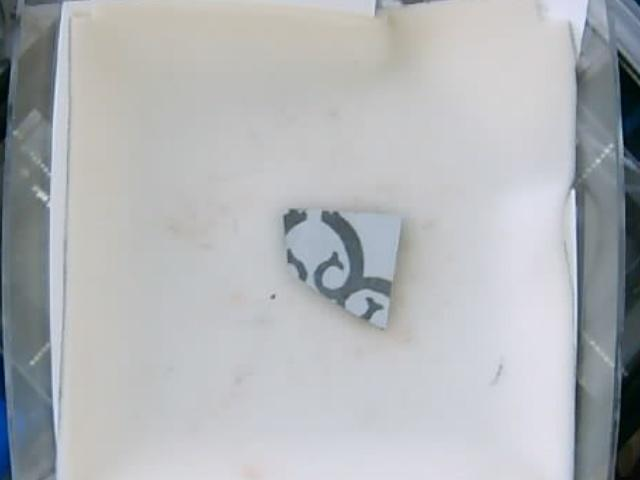China: (285, 207, 402, 329)
